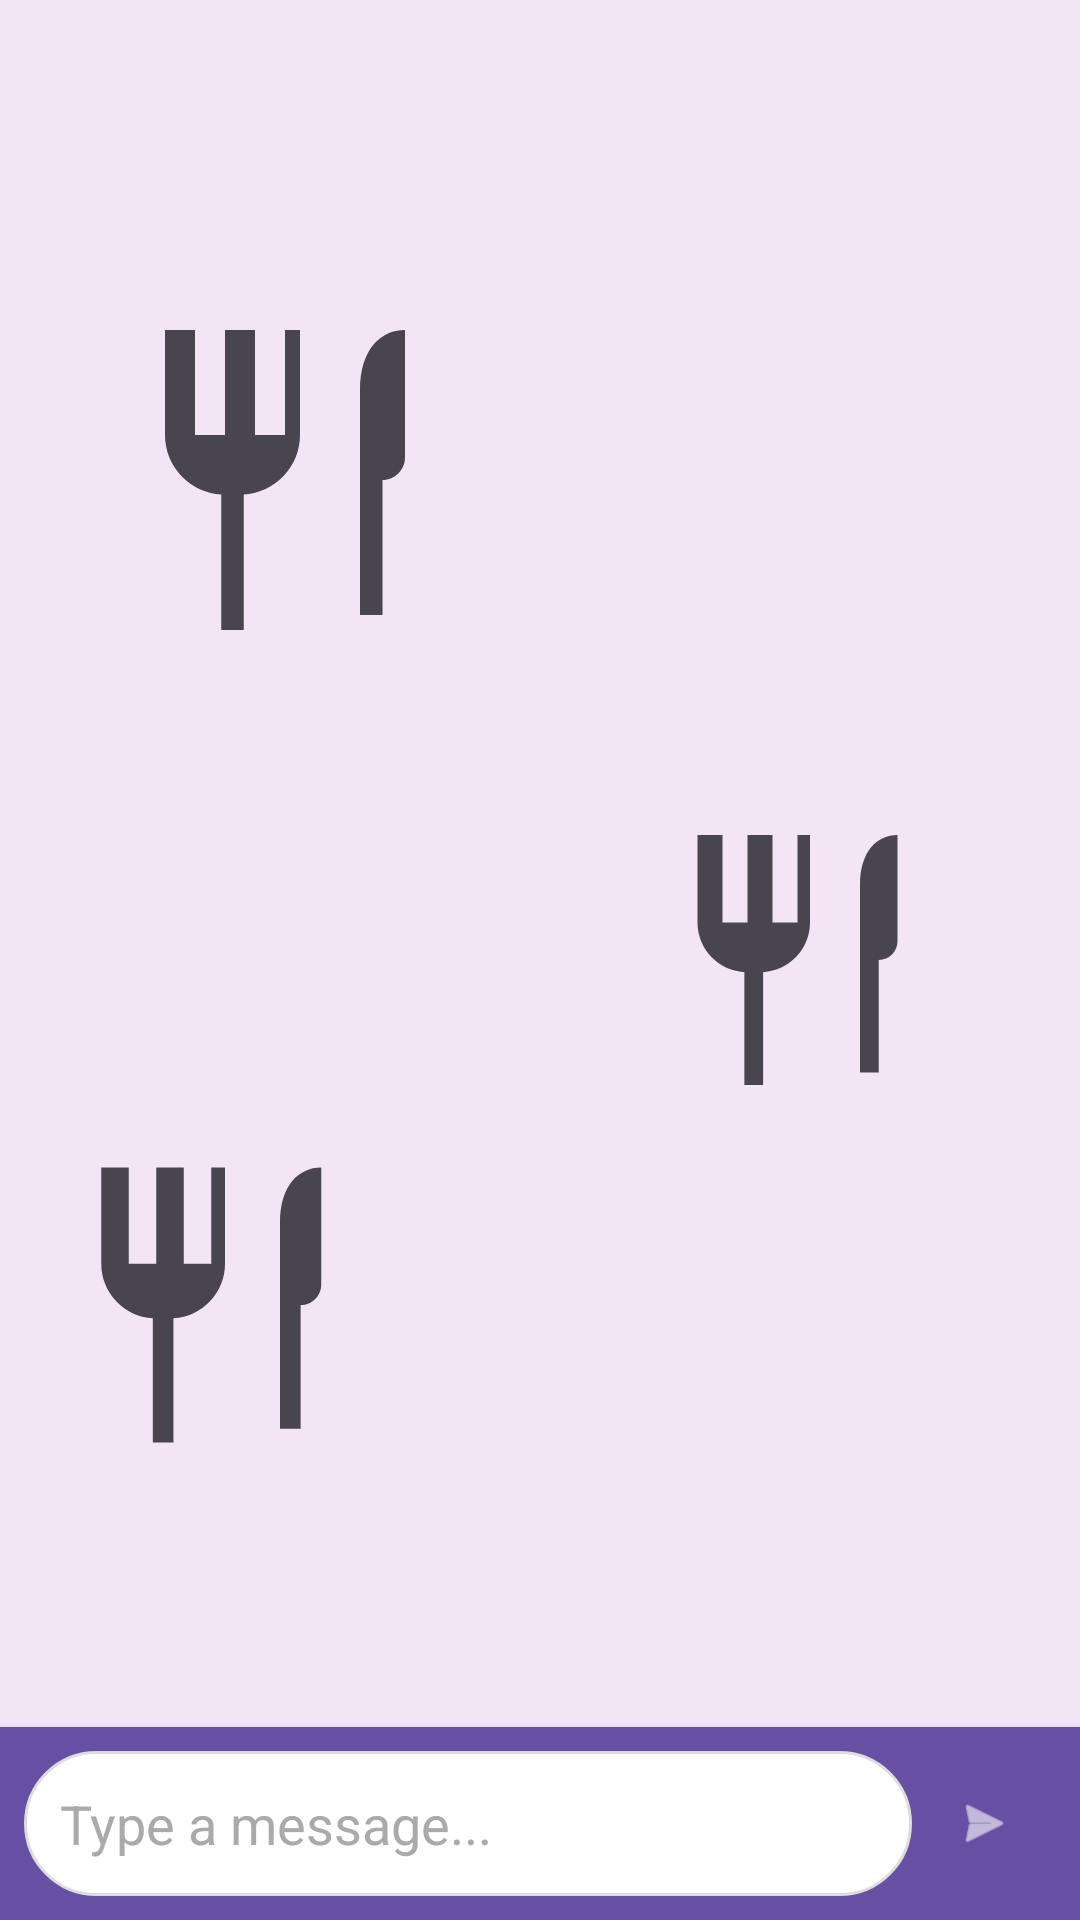

Named icons in this screenshot (1080 x 1920) and their centers, (x,y):
send: (984,1823)
